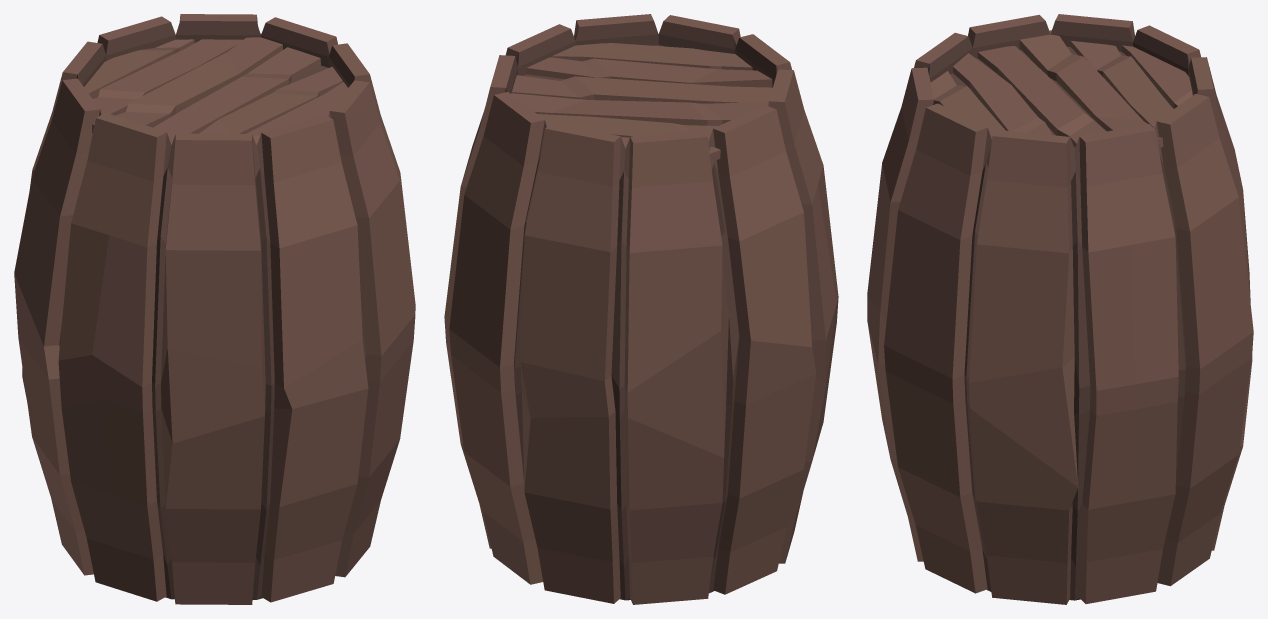
The model's file is barrel2.glb.
3 renders of one model, left to right at view 1: azimuth 30°, elevation 25°; view 2: azimuth 150°, elevation 25°; view 3: azimuth 270°, elevation 25°, orthographic.
Visible parts, largest first — view 1: Barrel; view 2: Barrel; view 3: Barrel.
Boxes of the visible parts, x1=… form: Barrel: x1=14, y1=14, x2=415, y2=604; Barrel: x1=444, y1=14, x2=838, y2=604; Barrel: x1=867, y1=14, x2=1253, y2=604.
Bounding box in the file's own units: 1.03 × 1.35 × 1.02.
